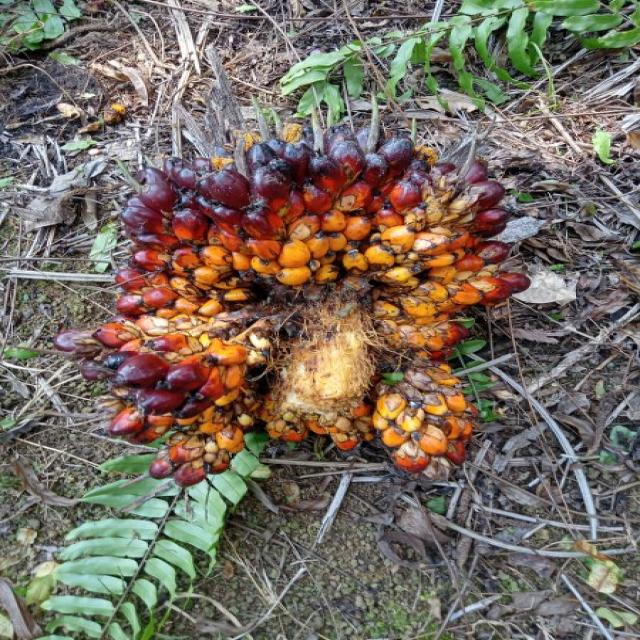fraksi 1: (73, 116, 545, 487)
